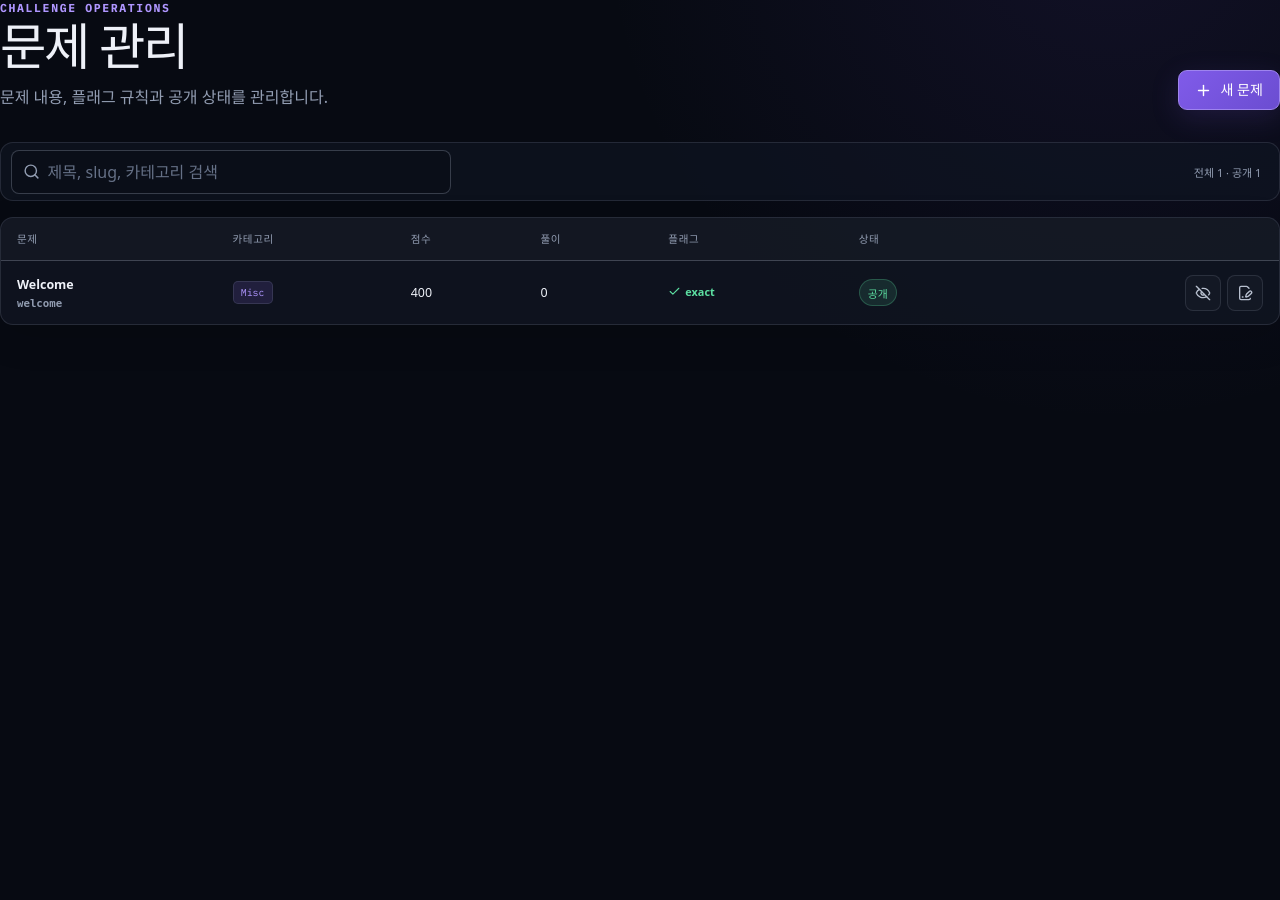
Test: admin event and flag contracts › locks all scoring controls after the scoreboard freezes
The image size is (1280, 900).
Click the button named "Welcome 수정" at (1245,293), box [1227,275,1263,311]
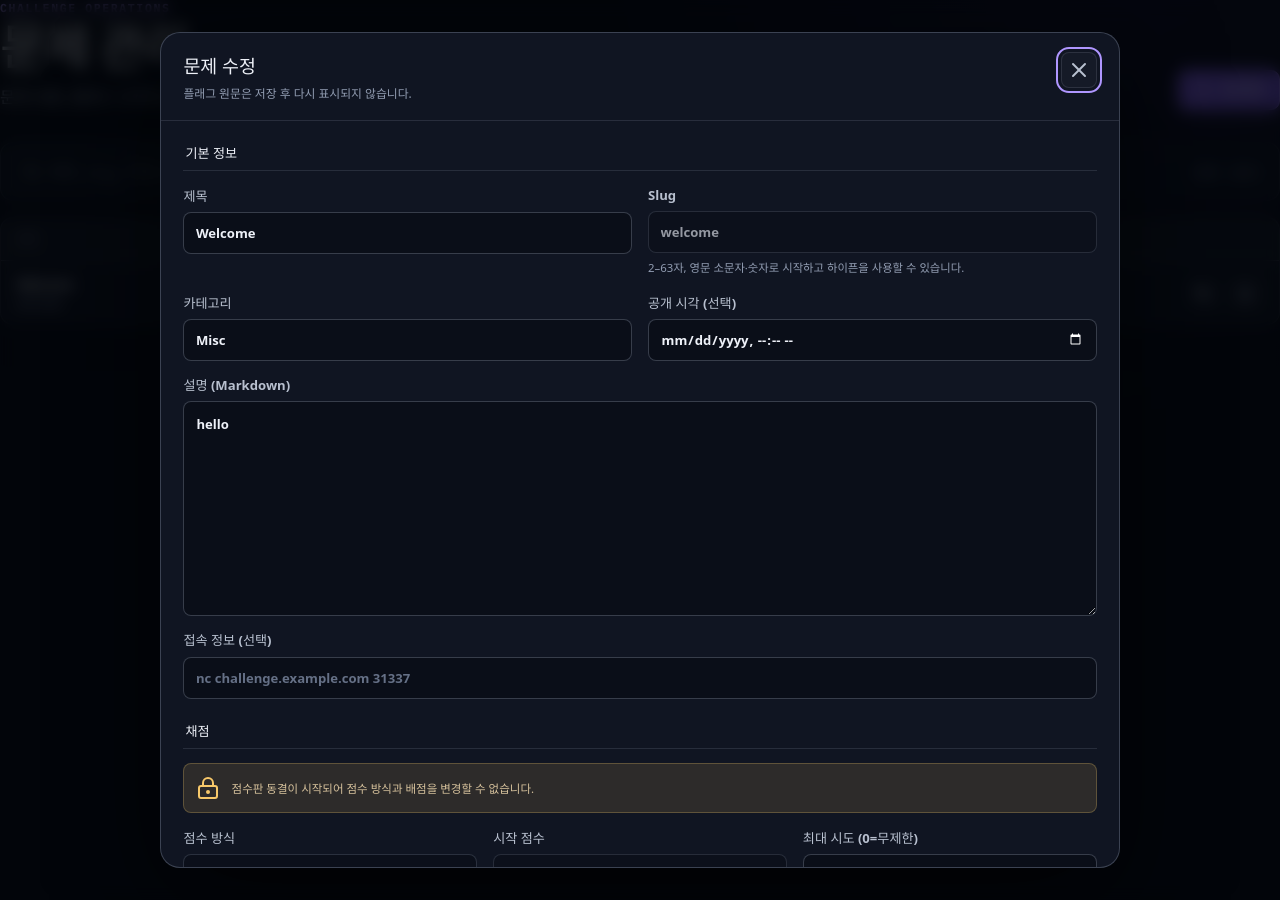
Expected: the text "점수판 동결이 시작되어 점수 방식과 배점을 변경할 수 없습니다." is shown, [232,780,534,796]
